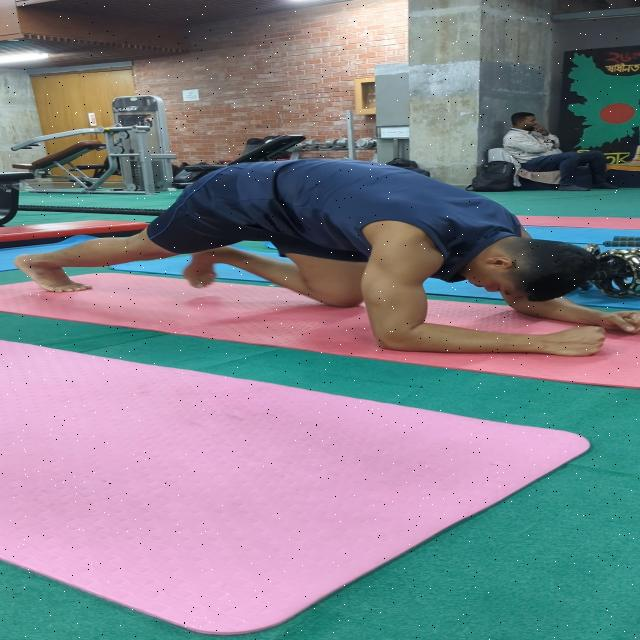Normal_MountainClimbers: (7, 137, 640, 370)
